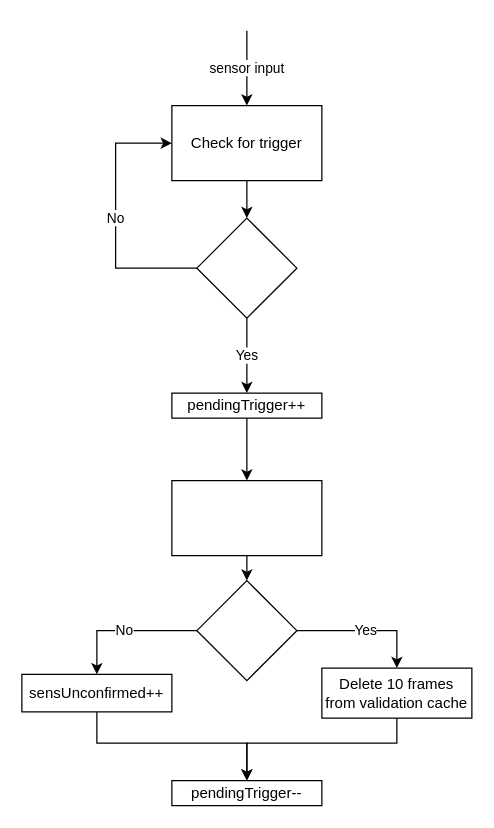
Some shapes in this 494 by 828 pixel diagram are drawn without their labels. Here are the shapes that lost their labels. From the top down, the centre of each, then its label:
At point (246, 267): "Valid trigger?".
At point (246, 517): "Cache 10 processed frames in validation cache".
At point (246, 630): "Car detected?".
